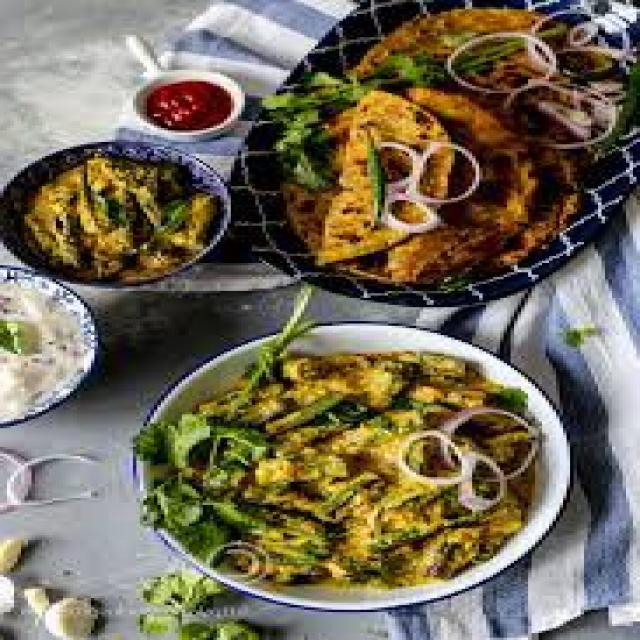Bhindi Masala: (152, 344, 544, 594), (15, 145, 218, 284)
